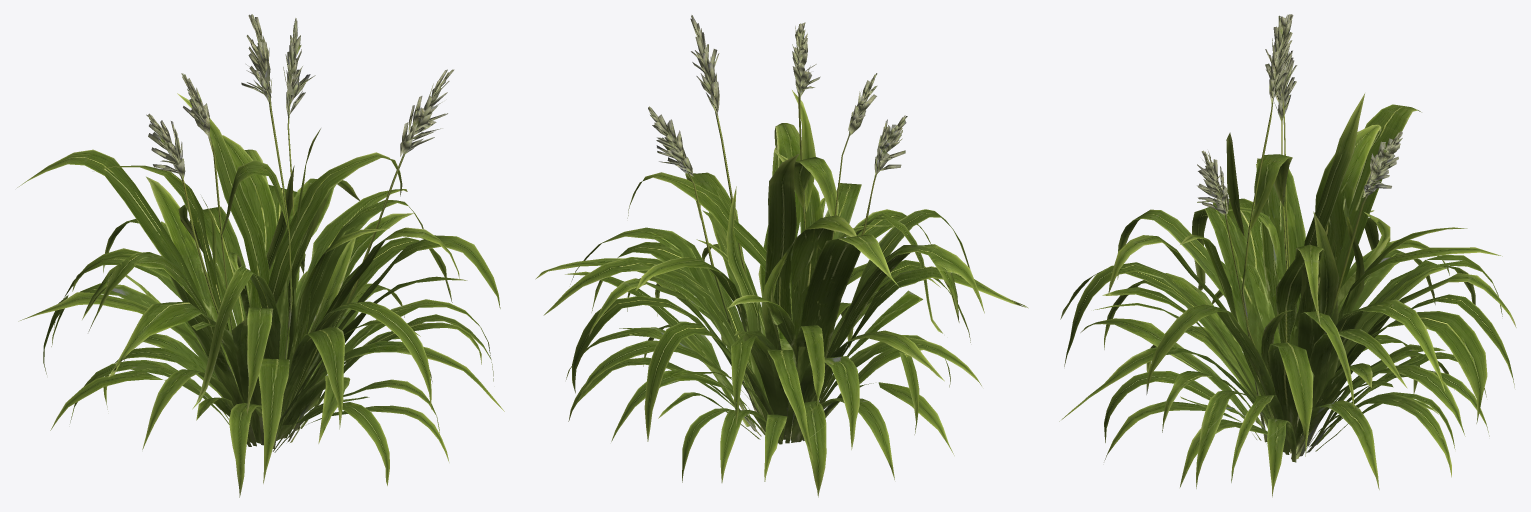
File: midori_green_fountain_grass_v1.glb
3 renders of one model, left to right at view 1: azimuth 30°, elevation 25°; view 2: azimuth 150°, elevation 25°; view 3: azimuth 270°, elevation 25°, orthographic. The views are drawn at different scales.
Bounding box in the file's own units: 1 × 1 × 0.9824.
1 material, 1 textured.
